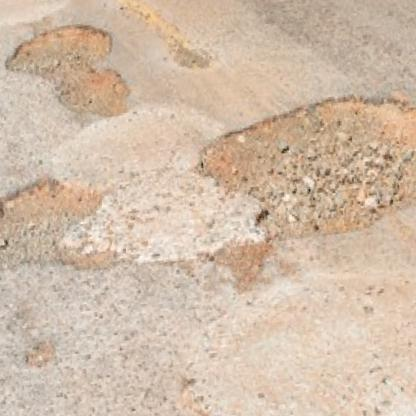pothole: (189, 80, 416, 252), (0, 163, 120, 291), (2, 18, 137, 128)
